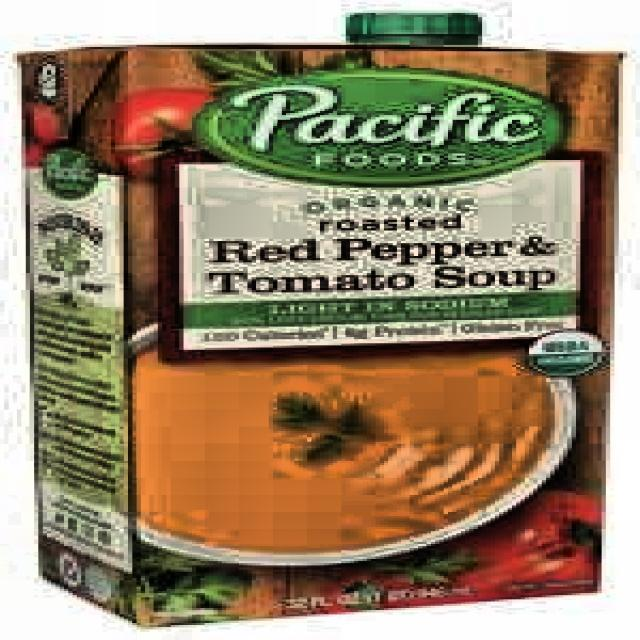cardboard: (12, 40, 618, 628)
